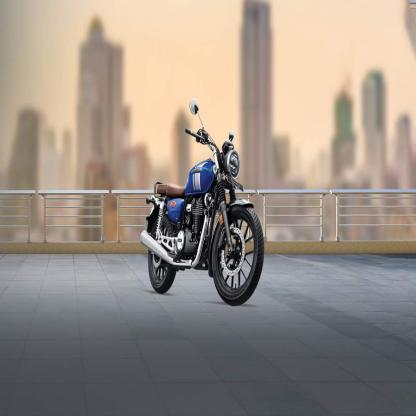bike: (143, 107, 267, 311)
